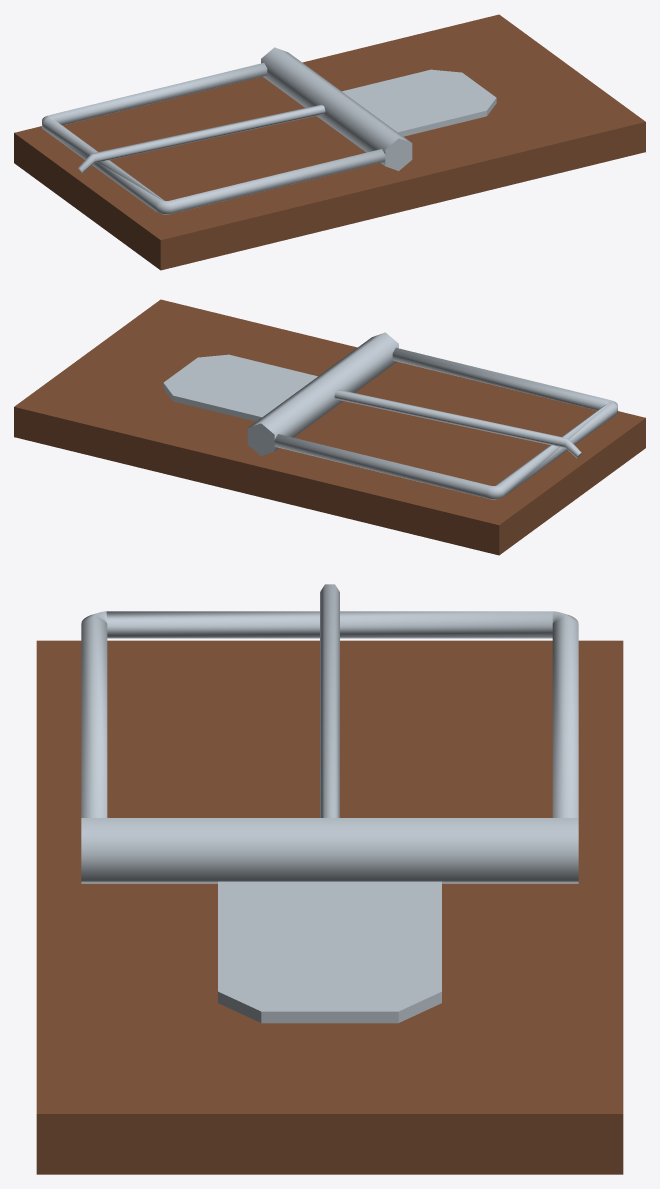
File: armadilharato1.fbx
3 renders of one model, top to bottom at view 1: azimuth 30°, elevation 25°; view 2: azimuth 150°, elevation 25°; view 3: azimuth 270°, elevation 25°, orthographic. The views are drawn at different scales.
Visible parts, largest first — view 1: Cube.002, Cylinder.032, Cube.003, Cylinder.030, Cylinder.031; view 2: Cube.002, Cylinder.032, Cube.003, Cylinder.030, Cylinder.031; view 3: Cube.002, Cylinder.030, Cube.003, Cylinder.032, Cylinder.031.
Part boxes in pixels (box(x1,y1,x2,y2)): Cube.002: box(14, 14, 645, 270); Cylinder.032: box(42, 63, 385, 214); Cube.003: box(342, 69, 496, 136); Cylinder.030: box(261, 47, 412, 170); Cylinder.031: box(78, 104, 325, 172); Cube.002: box(14, 299, 645, 555); Cylinder.032: box(274, 348, 617, 499); Cube.003: box(163, 354, 317, 421); Cylinder.030: box(247, 332, 398, 455); Cylinder.031: box(334, 389, 581, 457); Cube.002: box(36, 640, 623, 1174); Cylinder.030: box(81, 818, 578, 883); Cube.003: box(218, 881, 441, 1023); Cylinder.032: box(81, 611, 578, 817); Cylinder.031: box(320, 584, 339, 817).
Size of the model in its own units: 85.82 by 10.5 by 44.2.
